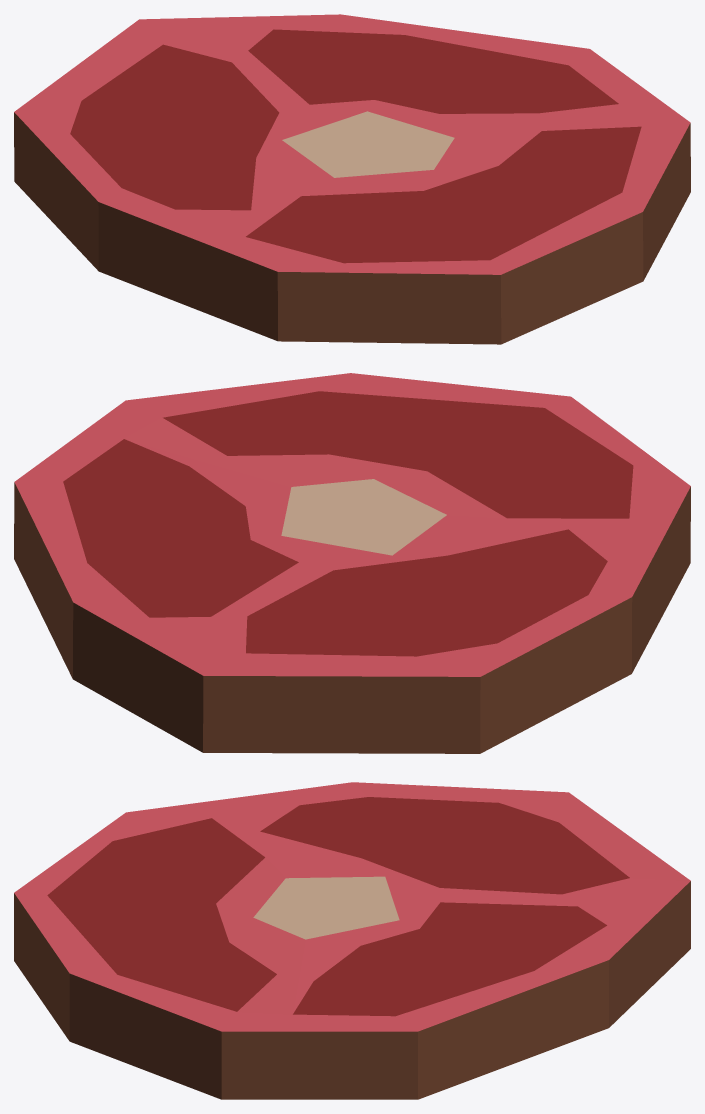
Rendered from meat_rose.fbx.
3 renders of one model, top to bottom at view 1: azimuth 30°, elevation 25°; view 2: azimuth 150°, elevation 25°; view 3: azimuth 270°, elevation 25°, orthographic. The views are drawn at different scales.
Parts seen in each view (by area): view 1: meat_rose.001; view 2: meat_rose.001; view 3: meat_rose.001.
Boxes of the visible parts, x1,y1,x2,y2 form: meat_rose.001: (14,14,690,344); meat_rose.001: (14,373,690,753); meat_rose.001: (14,782,690,1099).
Bounding box in the file's own units: 24.22 × 3.3 × 27.71.
